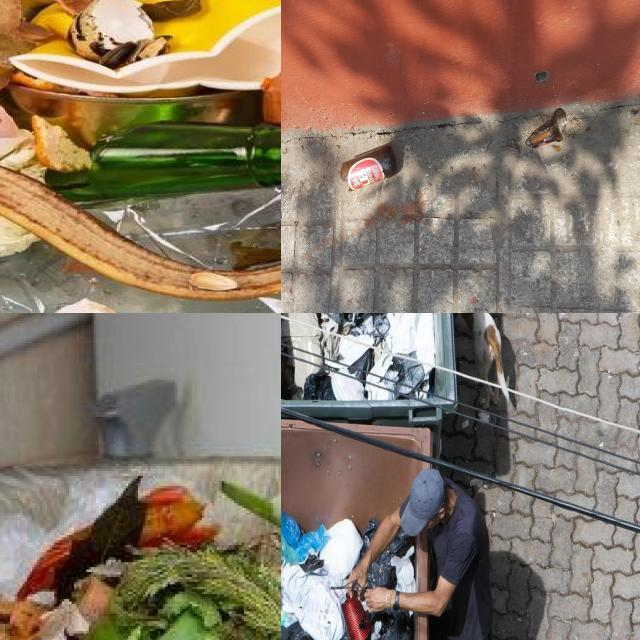Background: (281, 0, 640, 313), (369, 170, 370, 172)
Garbage: (0, 469, 281, 640), (281, 510, 413, 640), (281, 313, 435, 400), (365, 533, 415, 593)
Glass_bottle: (46, 122, 281, 201), (340, 145, 397, 190), (527, 108, 568, 148)
Plastic: (281, 313, 323, 396), (342, 593, 372, 640), (348, 347, 374, 383), (303, 372, 336, 400)
Plastic_Bag: (281, 565, 344, 640), (320, 520, 363, 586), (366, 531, 413, 589), (281, 510, 330, 561), (367, 610, 413, 640), (390, 546, 416, 593), (360, 518, 379, 558), (281, 535, 300, 567), (281, 621, 306, 640)
contaminated_waste: (0, 242, 281, 313), (88, 189, 281, 269)
